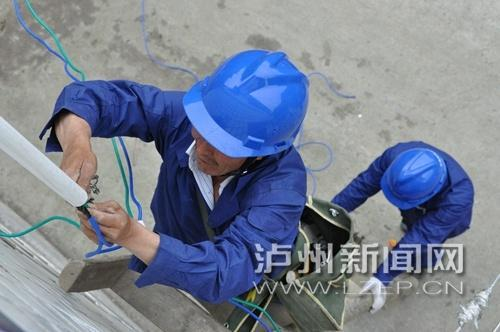helmet: (187, 50, 312, 158), (377, 146, 449, 210)
person: (52, 44, 316, 301), (331, 136, 474, 238)
